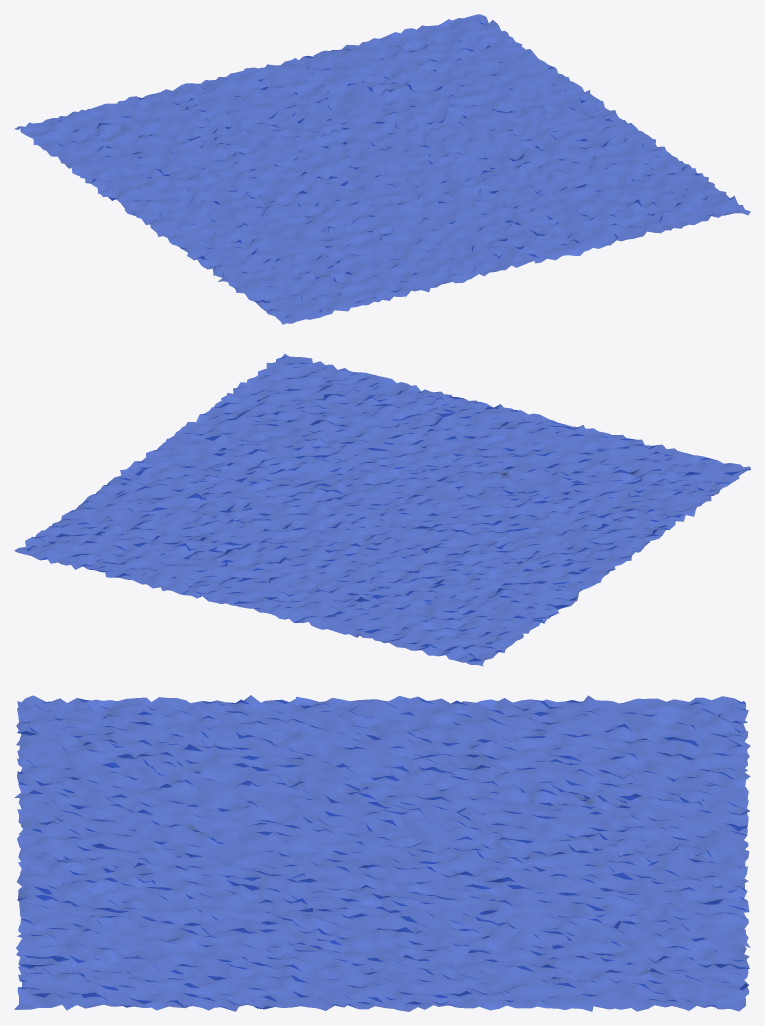
Rendered from water_surface11.obj.
3 views of the same model, one above another, from view 1: azimuth 30°, elevation 25°; view 2: azimuth 150°, elevation 25°; view 3: azimuth 270°, elevation 25° (orthographic). The views are drawn at different scales.
Parts seen in each view (by area): view 1: Plane_Plane.002; view 2: Plane_Plane.002; view 3: Plane_Plane.002.
Boxes of the visible parts, x1=… form: Plane_Plane.002: x1=14, y1=14, x2=750, y2=324; Plane_Plane.002: x1=14, y1=353, x2=750, y2=666; Plane_Plane.002: x1=14, y1=695, x2=750, y2=1011.
Bounding box in the file's own units: 1.21 × 0.0248 × 1.21.
